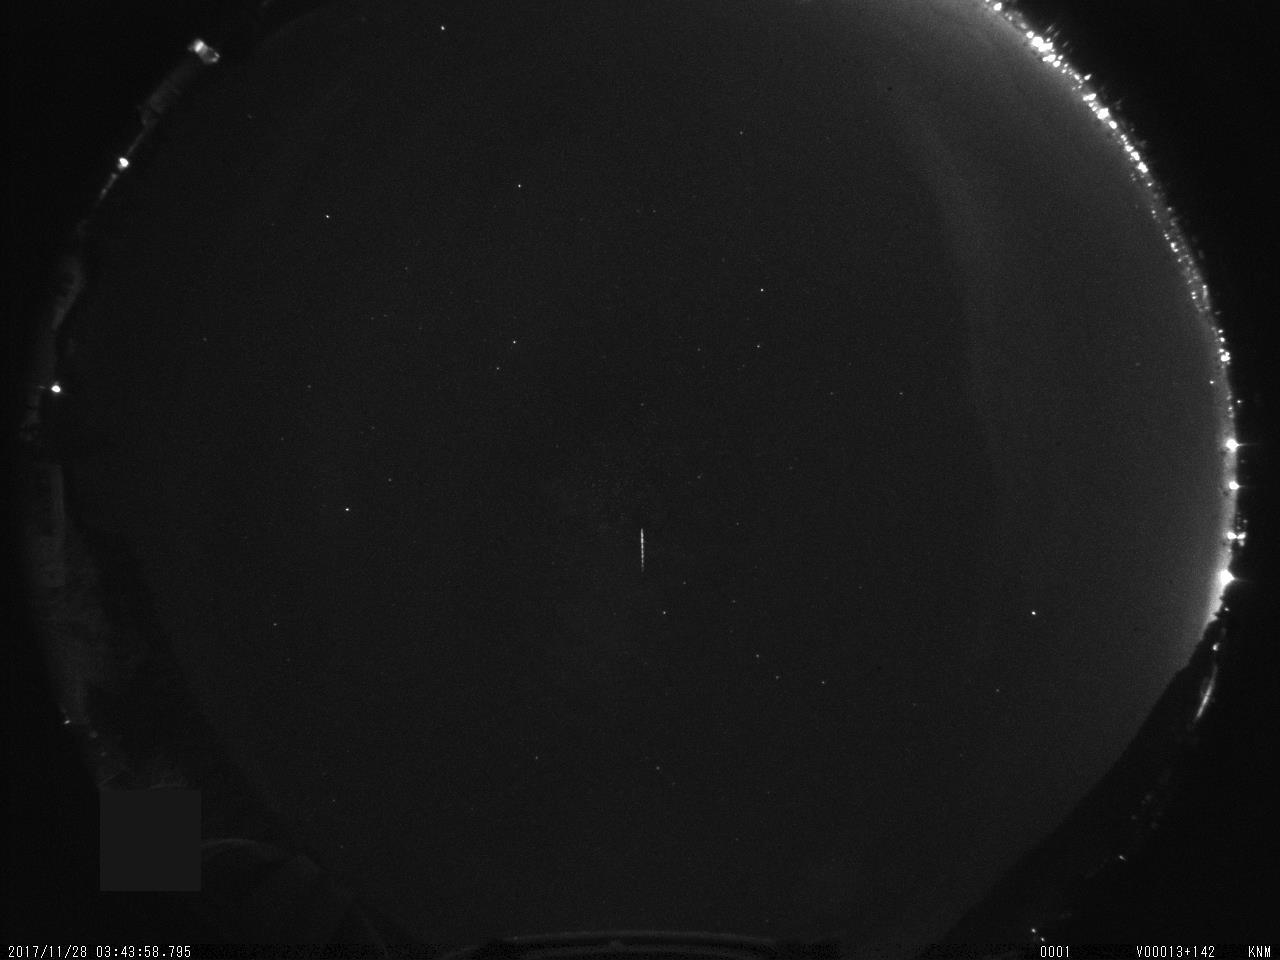Meteor: (635, 524, 650, 575)
